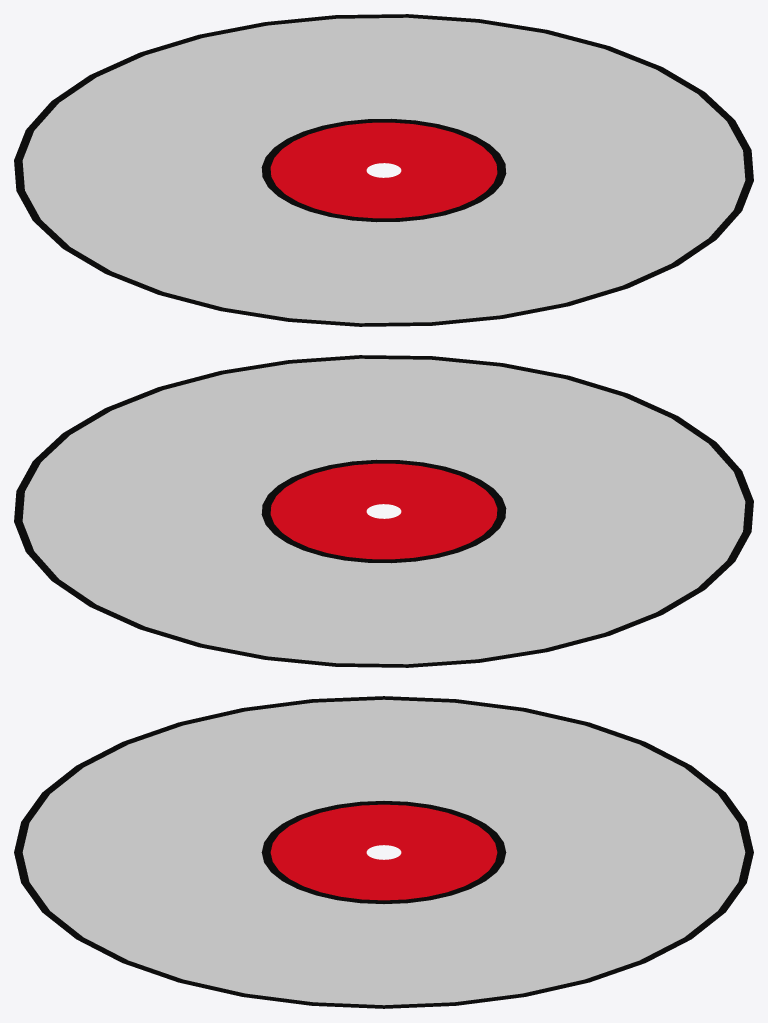
The model's file is vinyl2.glb.
The picture shows the model from 3 angles, top to bottom: view 1: azimuth 30°, elevation 25°; view 2: azimuth 150°, elevation 25°; view 3: azimuth 270°, elevation 25°; orthographic projection.
Parts seen in each view (by area): view 1: Circle; view 2: Circle; view 3: Circle.
Part boxes in pixels (box(x1,y1,x2,y2)): Circle: box(14, 14, 753, 326); Circle: box(14, 355, 753, 667); Circle: box(14, 696, 753, 1008).
Size of the model in its own units: 2 by 0 by 2.
